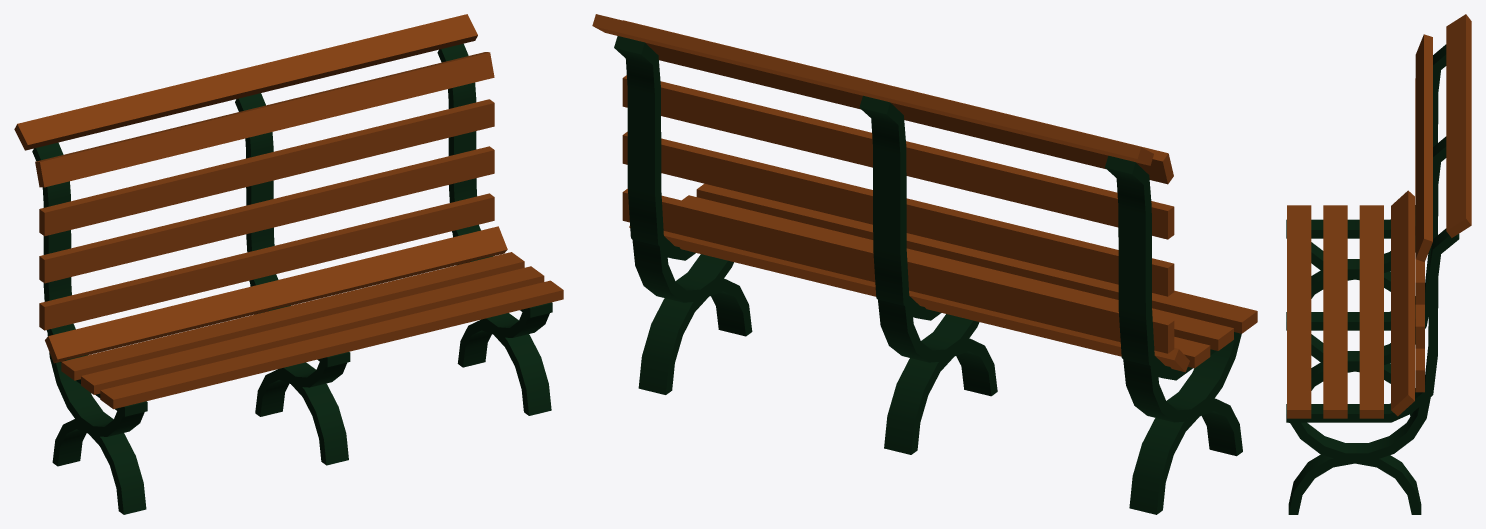
File: bench.FBX
The picture shows the model from 3 angles, left to right: view 1: azimuth 30°, elevation 25°; view 2: azimuth 150°, elevation 25°; view 3: azimuth 270°, elevation 25°; orthographic projection. The views are drawn at different scales.
Parts seen in each view (by area): view 1: Box014; view 2: Box014; view 3: Box014.
Part boxes in pixels (box(x1,y1,x2,y2)): Box014: box(14, 14, 563, 514); Box014: box(592, 14, 1257, 514); Box014: box(1286, 14, 1471, 514).
Bounding box in the file's own units: 100 × 68.78 × 38.28.
